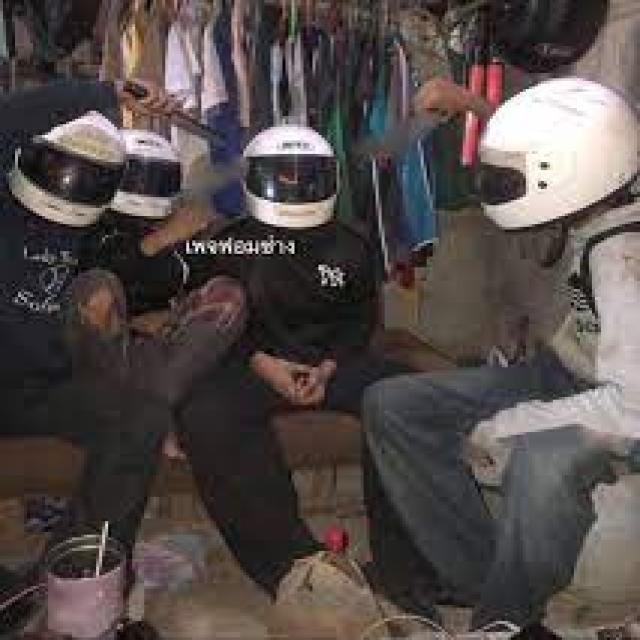helmet: (476, 64, 640, 243), (3, 104, 125, 238), (240, 117, 340, 240), (111, 128, 184, 225)
knife: (120, 64, 238, 157)
